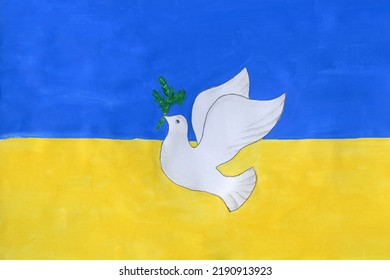bird: (160, 66, 291, 212)
